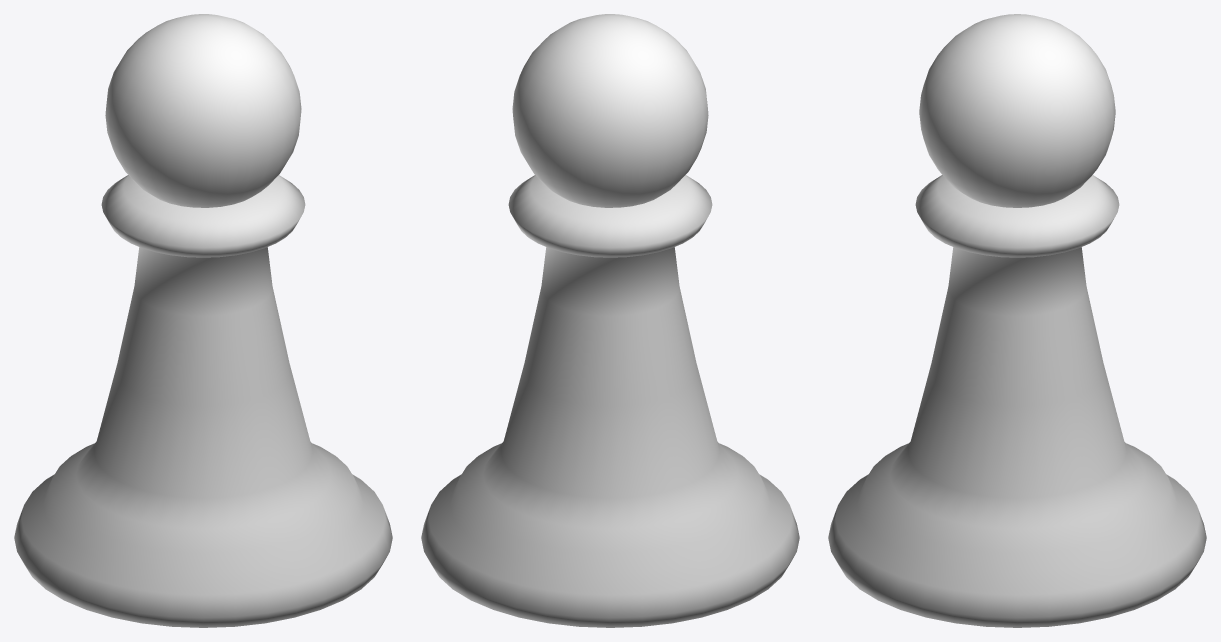
Rendered from peon-3NhjH8HJ.glb.
The picture shows the model from 3 angles, left to right: view 1: azimuth 30°, elevation 25°; view 2: azimuth 150°, elevation 25°; view 3: azimuth 270°, elevation 25°; orthographic projection.
Parts seen in each view (by area): view 1: Tint; view 2: Tint; view 3: Tint.
Part boxes in pixels (x1,y1,x2,y2): Tint: (14, 14, 392, 627); Tint: (421, 14, 799, 627); Tint: (828, 14, 1206, 627).
Size of the model in its own units: 1.04 by 1.6 by 1.04.
1 material, 1 textured.
